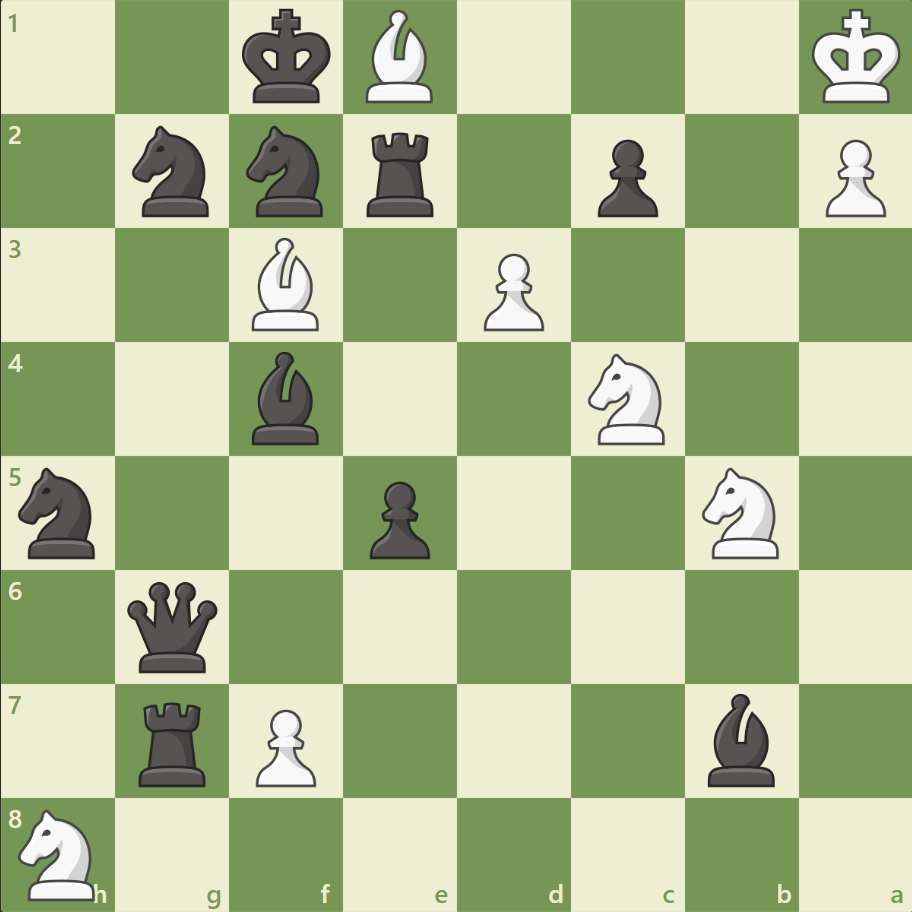B: (244, 233, 328, 336), (358, 6, 442, 109)
K: (806, 4, 906, 112)
N: (692, 461, 789, 564), (11, 802, 108, 904), (579, 348, 676, 450)
P: (247, 700, 322, 791), (474, 246, 549, 337), (815, 132, 889, 223)
b: (698, 687, 782, 790), (244, 347, 328, 449)
k: (238, 4, 338, 112)
n: (124, 121, 222, 223), (11, 461, 108, 564), (238, 121, 335, 223)
p: (361, 473, 435, 564), (588, 132, 662, 223)
q: (124, 576, 223, 676)
r: (133, 693, 215, 790), (360, 125, 442, 222)
